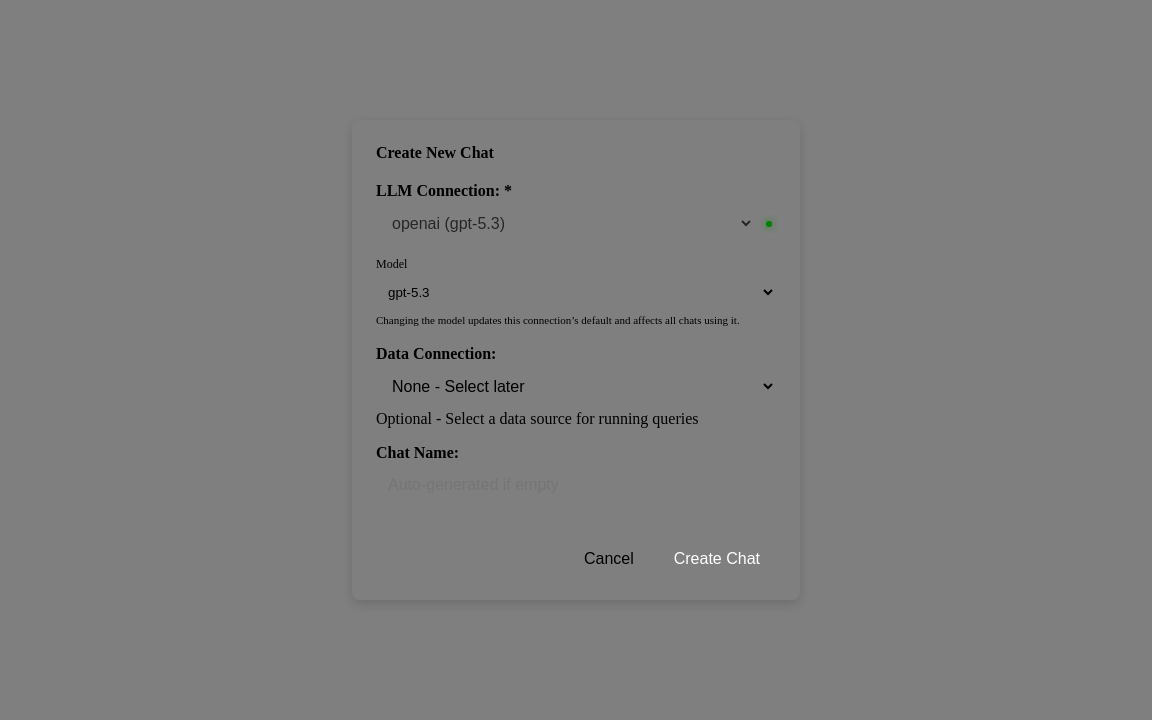
Test case: new chat model selection › keeps the dialog open and restores the model if persistence fails
The image size is (1152, 720).
Select "gpt-6-luna" in the dropdown with test id "chat-model-select" at (576, 293), box [376, 278, 776, 307]
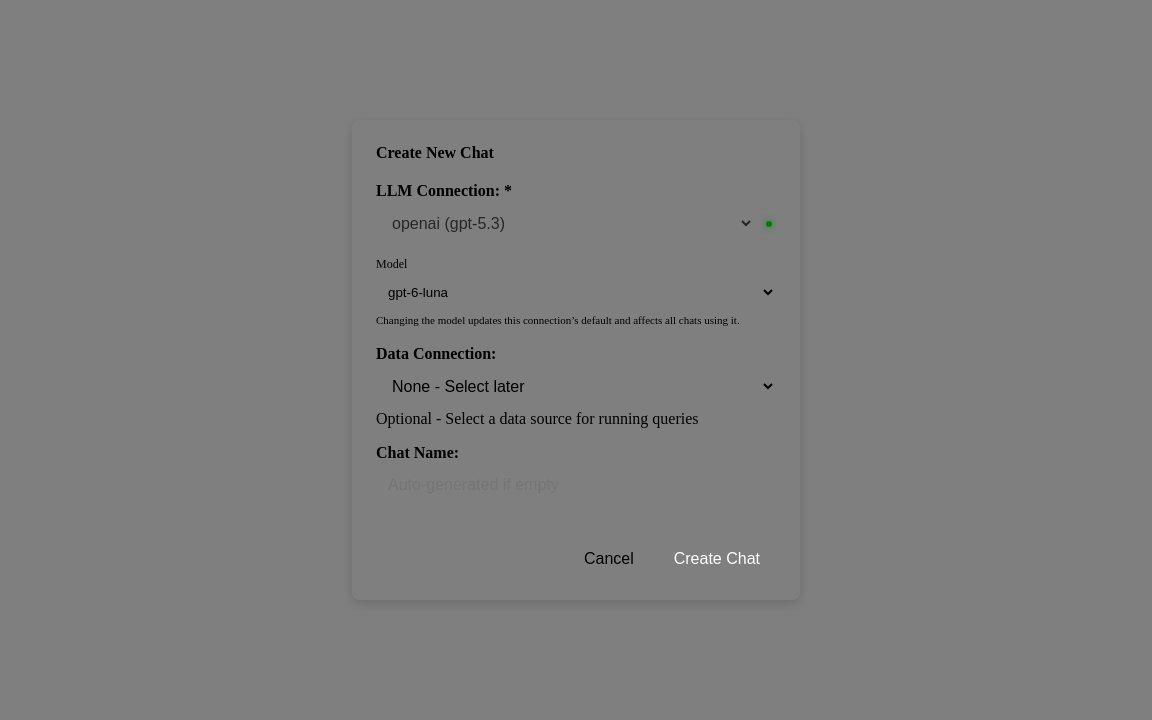
Click the button with test id "create-chat-btn".
click(717, 559)  # box [658, 542, 776, 576]
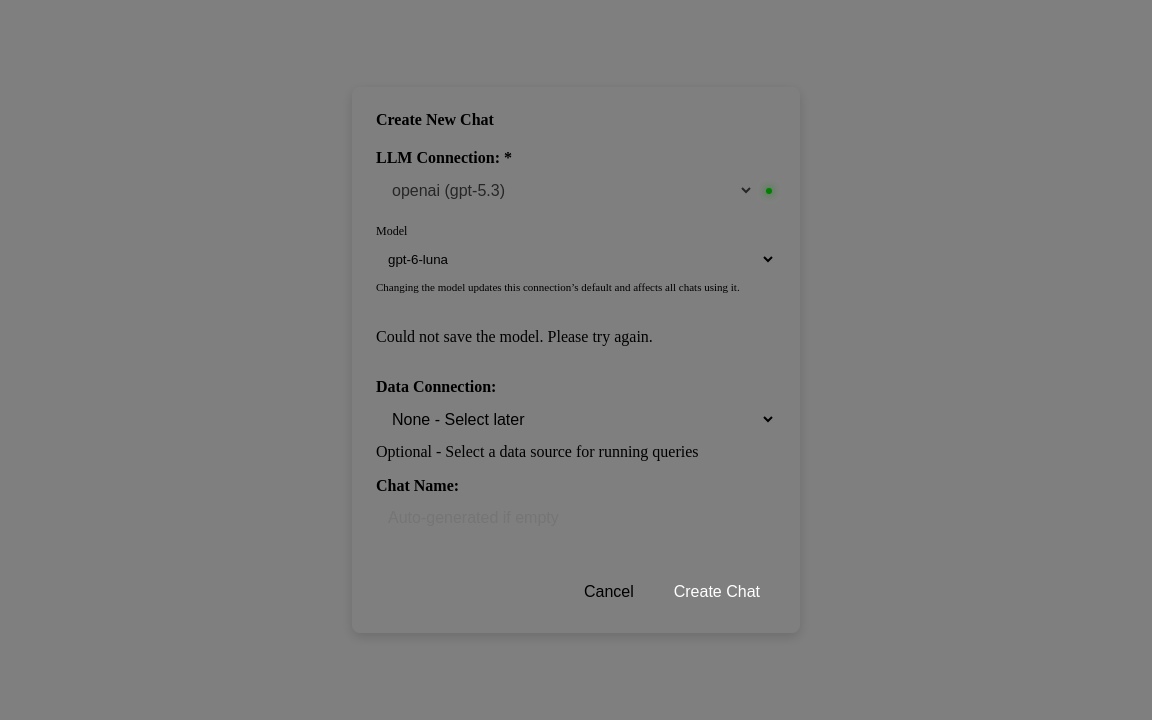
expect the message "Could not save the model. Please try again." is shown: met, box [376, 328, 653, 345]
